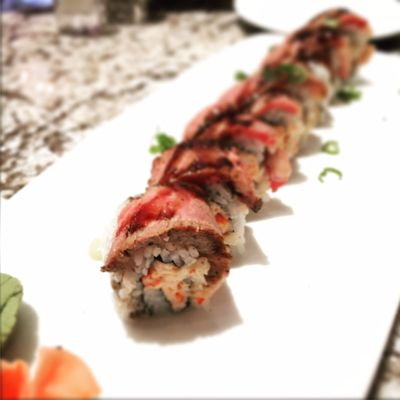soup: (97, 16, 344, 321)
